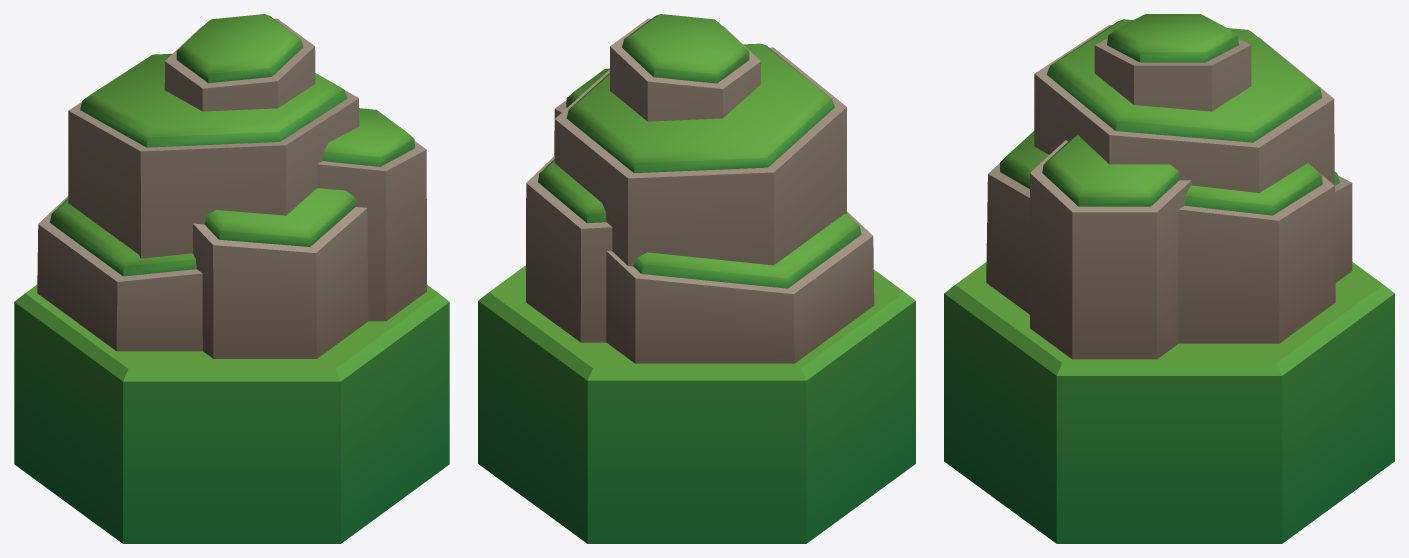
File: hex_mountain_a.glb
The picture shows the model from 3 angles, left to right: view 1: azimuth 30°, elevation 25°; view 2: azimuth 150°, elevation 25°; view 3: azimuth 270°, elevation 25°; orthographic projection. The views are drawn at different scales.
Visible parts, largest first — view 1: hex_mountain_a; view 2: hex_mountain_a; view 3: hex_mountain_a.
Boxes of the visible parts, x1=… form: hex_mountain_a: x1=14, y1=14, x2=449, y2=543; hex_mountain_a: x1=478, y1=14, x2=915, y2=543; hex_mountain_a: x1=944, y1=14, x2=1394, y2=543.
Size of the model in its own units: 1 by 1.25 by 1.15.
Materials: 1 (1 with a texture image).
